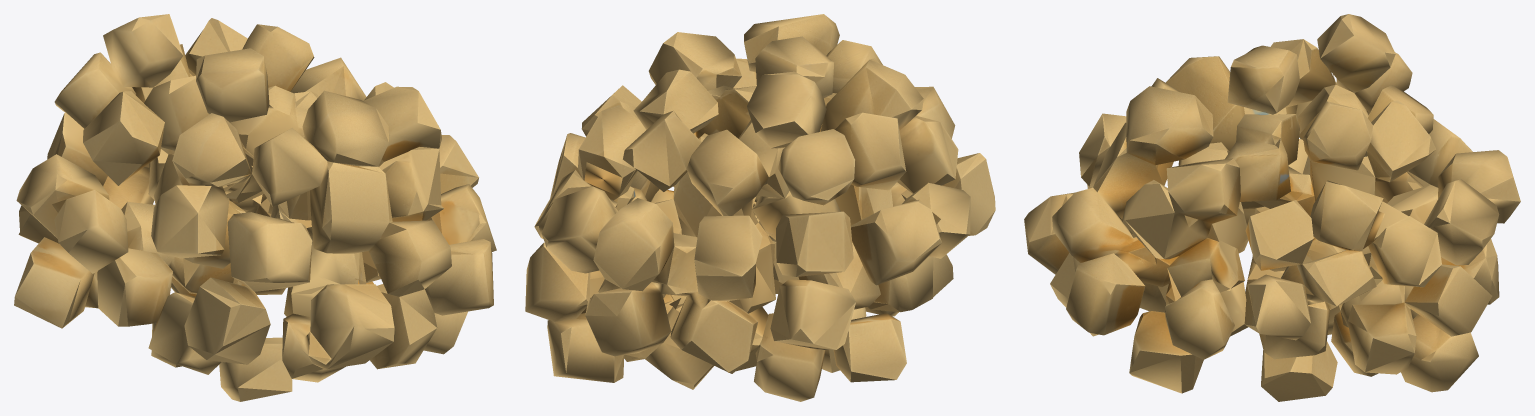
The model's file is Pyrite.fbx.
3 renders of one model, left to right at view 1: azimuth 30°, elevation 25°; view 2: azimuth 150°, elevation 25°; view 3: azimuth 270°, elevation 25°, orthographic. The views are drawn at different scales.
Visible parts, largest first — view 1: Mesh_0; view 2: Mesh_0; view 3: Mesh_0.
Boxes of the visible parts, x1,y1,x2,y2 form: Mesh_0: (14, 14, 496, 401); Mesh_0: (525, 14, 995, 401); Mesh_0: (1024, 14, 1520, 401).
Bounding box in the file's own units: 171 × 132 × 190.
Materials: 1 (1 with a texture image).
